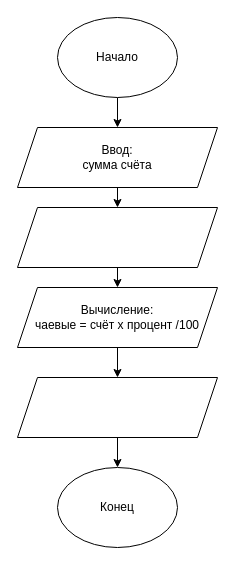
Some shapes in this 235 by 565 pixel diagram are drawn without their labels. The box of each missing label's shape, as (x1, y1, x2, y2) in pixels:
Ввод: процента чаевых: (16, 206, 218, 268)
Вычисление: итго = счёт + чаевые: (16, 376, 218, 438)
